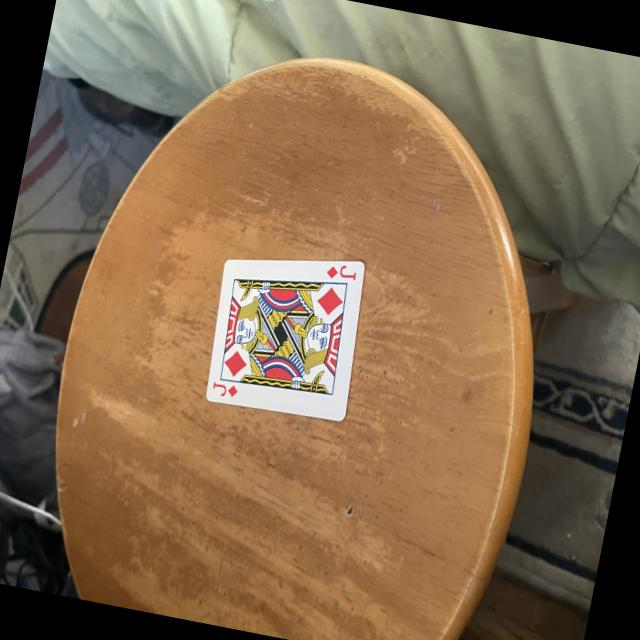Jack of diamonds: (205, 257, 368, 422)
